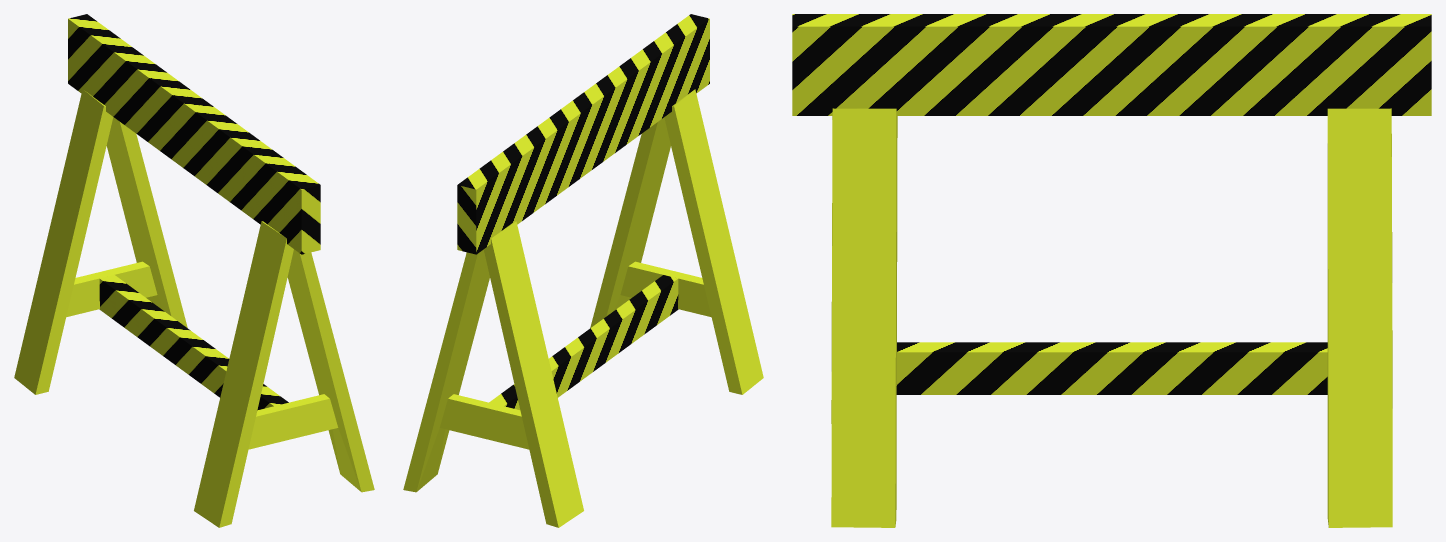
The model's file is barricade.fbx.
The picture shows the model from 3 angles, left to right: view 1: azimuth 30°, elevation 25°; view 2: azimuth 150°, elevation 25°; view 3: azimuth 270°, elevation 25°; orthographic projection. The views are drawn at different scales.
Parts seen in each view (by area): view 1: Barricade.001; view 2: Barricade.001; view 3: Barricade.001.
Boxes of the visible parts, x1,y1,x2,y2 form: Barricade.001: (14, 14, 374, 527); Barricade.001: (403, 14, 763, 527); Barricade.001: (792, 14, 1431, 527).
Bounding box in the file's own units: 0.3328 × 0.6612 × 0.8429.
Materials: 1 (1 with a texture image).
